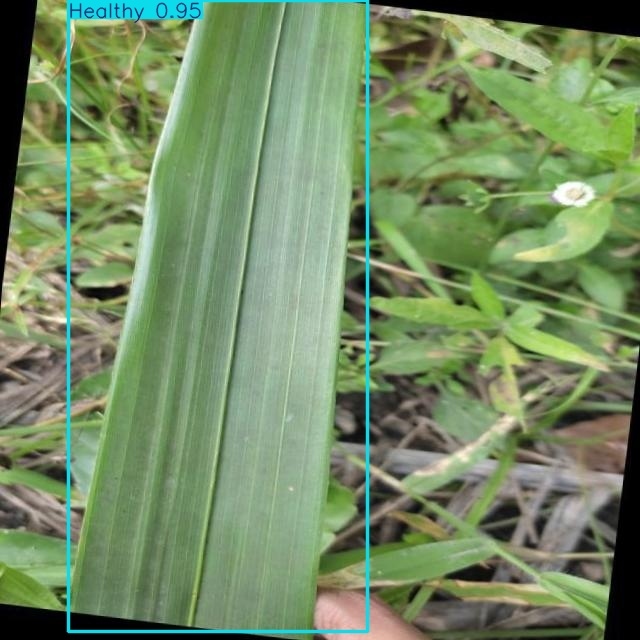Healthy: (69, 0, 367, 632)
